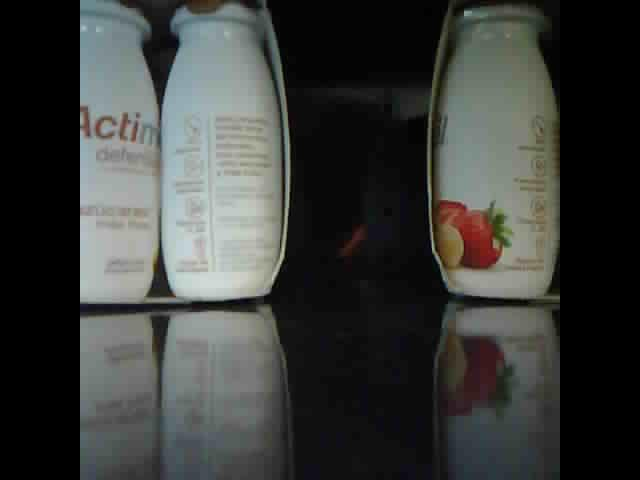actimel: (80, 1, 291, 307), (429, 1, 562, 304)
